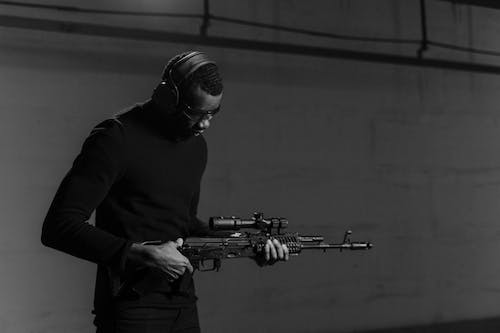gun: (137, 210, 375, 275)
